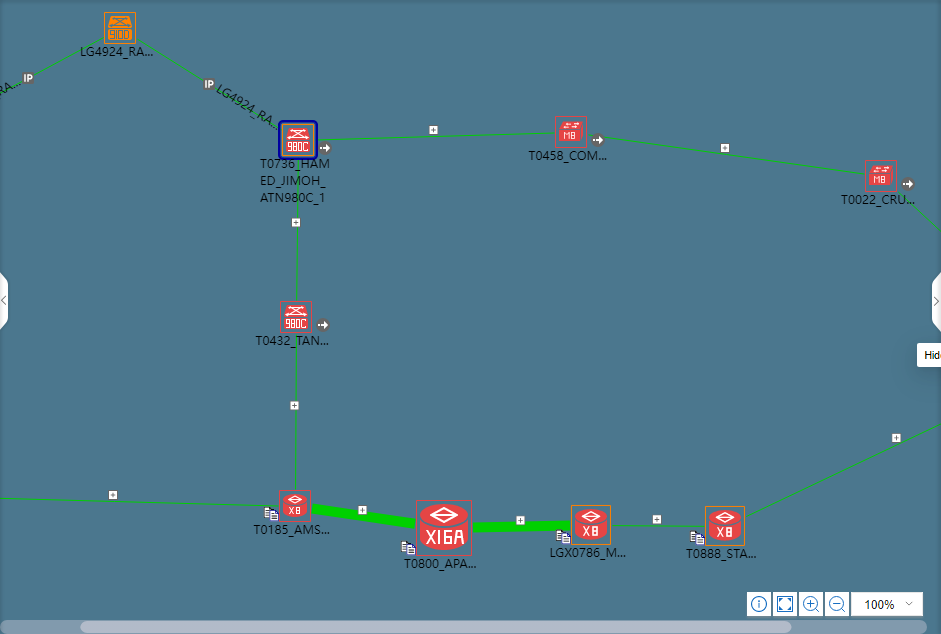ATN_Orange: (107, 16, 133, 41)
ATN_Red: (283, 302, 311, 330), (286, 128, 311, 153)
Link_Green: (748, 421, 941, 519), (138, 38, 277, 131), (589, 133, 863, 176), (0, 36, 103, 95), (0, 497, 277, 510), (312, 504, 417, 529), (319, 131, 554, 142), (896, 190, 940, 233), (474, 520, 571, 533), (293, 336, 299, 489), (295, 161, 300, 301), (611, 524, 704, 528)
Router_Red: (418, 503, 471, 555), (571, 508, 609, 545), (708, 511, 741, 541), (280, 492, 310, 521)
Switch_Red: (865, 161, 894, 190), (556, 120, 584, 145)
